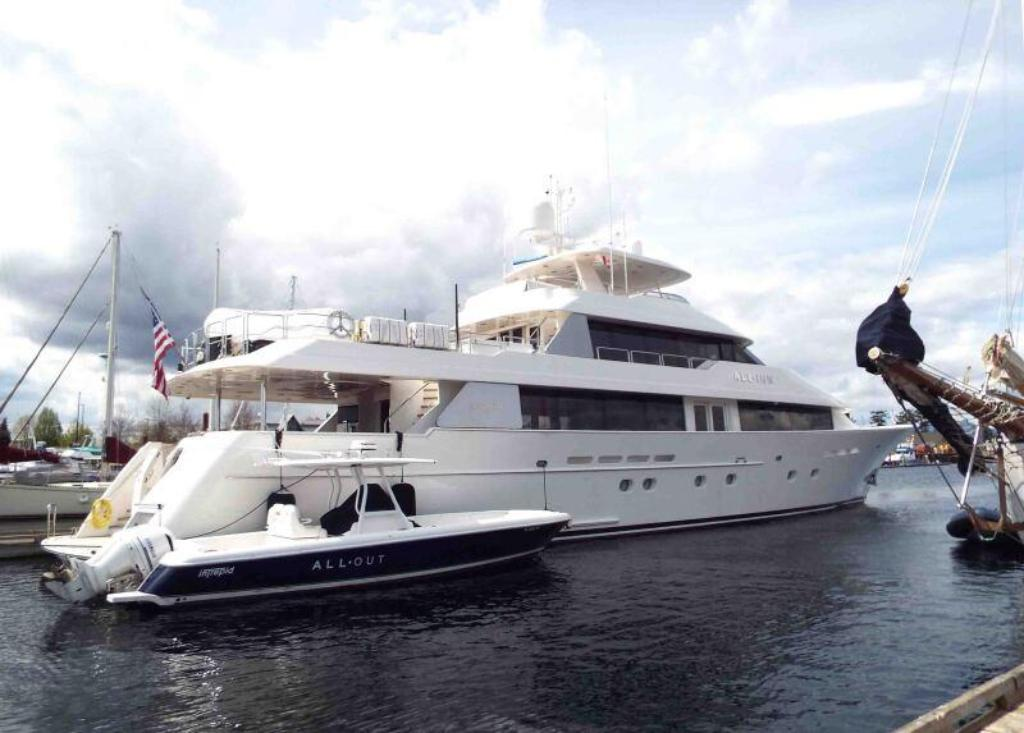PassengerShip: (32, 185, 922, 607)
